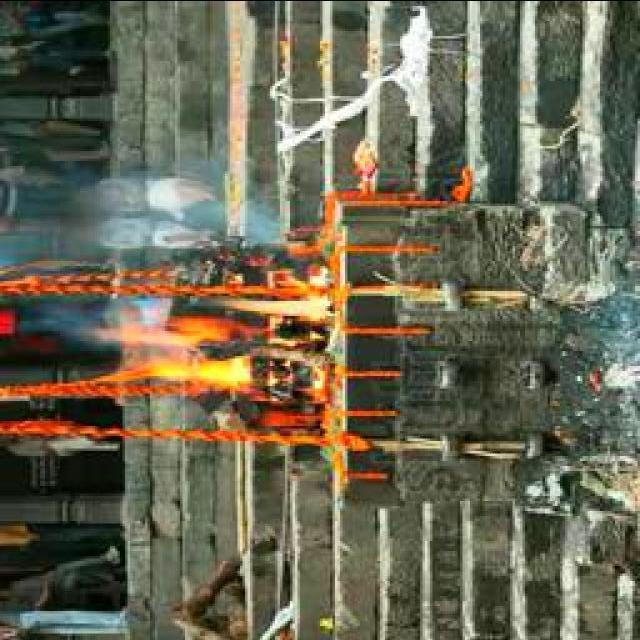Fire: (85, 276, 332, 386)
